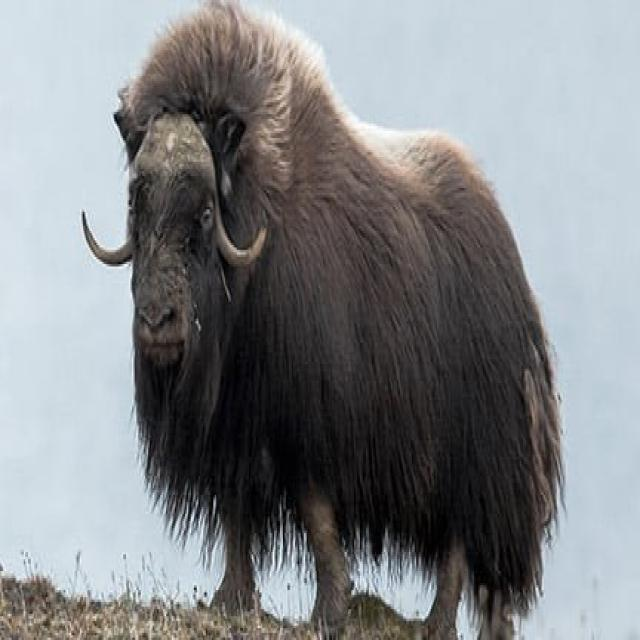Ox: (75, 2, 570, 640)
